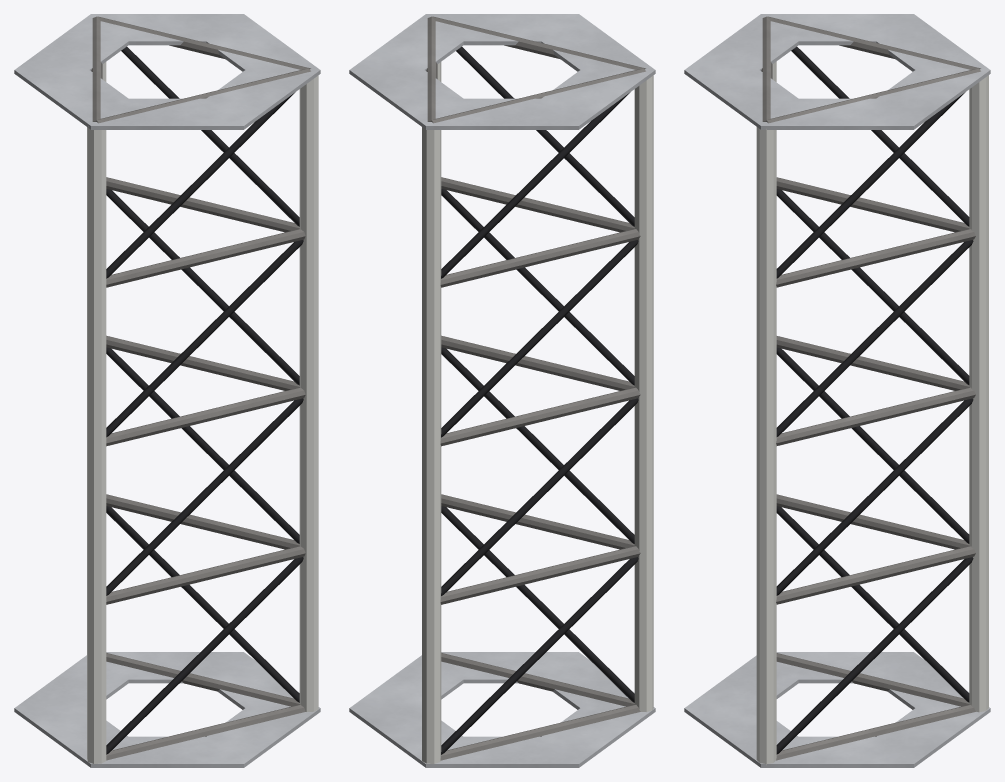
The model's file is ax_gear_09_tri_truss_m.glb.
3 views of the same model, side by side, from view 1: azimuth 30°, elevation 25°; view 2: azimuth 150°, elevation 25°; view 3: azimuth 270°, elevation 25° (orthographic).
Visible parts, largest first — view 1: end_frames, longerons, battens, diagonals; view 2: end_frames, longerons, battens, diagonals; view 3: end_frames, longerons, battens, diagonals.
Boxes of the visible parts, <box> form: end_frames: <box>14,14,320,767</box>; longerons: <box>87,62,318,763</box>; battens: <box>91,16,310,760</box>; diagonals: <box>106,46,303,754</box>; end_frames: <box>349,14,655,767</box>; longerons: <box>422,62,653,763</box>; battens: <box>426,16,645,760</box>; diagonals: <box>441,46,638,754</box>; end_frames: <box>684,14,990,767</box>; longerons: <box>756,61,988,765</box>; battens: <box>761,16,980,760</box>; diagonals: <box>776,46,973,754</box>.
Bounding box in the file's own units: 1.87 × 5.02 × 2.16.
Materials: 4 (2 with a texture image).
